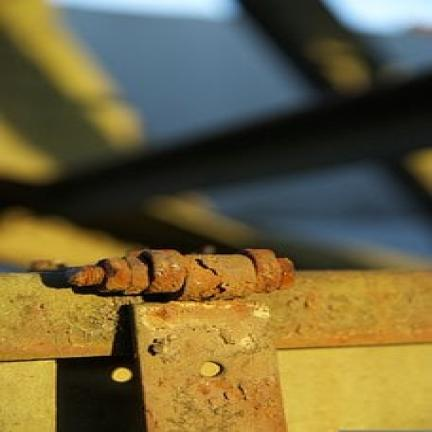karat: (65, 250, 293, 301)
